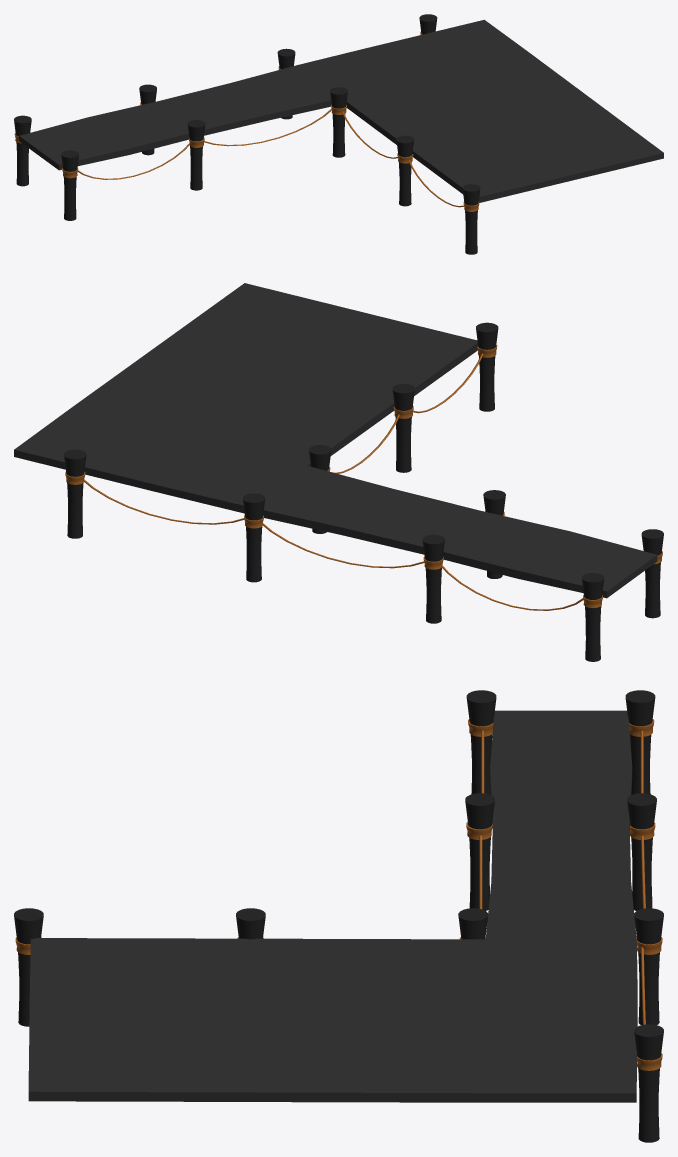
File: Dock_Stage_2.FBX
3 renders of one model, top to bottom at view 1: azimuth 30°, elevation 25°; view 2: azimuth 150°, elevation 25°; view 3: azimuth 270°, elevation 25°, orthographic. The views are drawn at different scales.
Parts seen in each view (by area): view 1: Dock_Large002; view 2: Dock_Large002; view 3: Dock_Large002.
Boxes of the visible parts, <box> form: Dock_Large002: <box>14,14,663,254</box>; Dock_Large002: <box>14,283,663,661</box>; Dock_Large002: <box>14,690,663,1142</box>.
Bounding box in the file's own units: 199 × 26.12 × 143.
